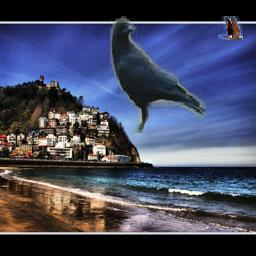Crow: (110, 17, 206, 134)
Cuckoo: (219, 16, 244, 40)
